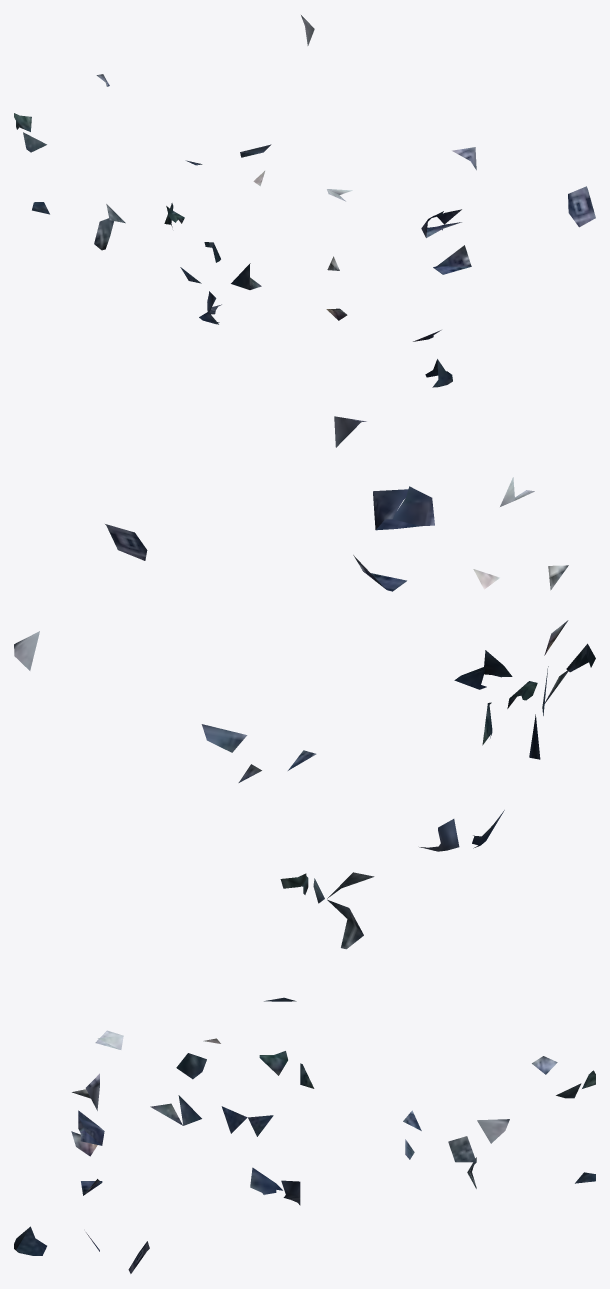
The picture shows the model from 3 angles, top to bottom: view 1: azimuth 30°, elevation 25°; view 2: azimuth 150°, elevation 25°; view 3: azimuth 270°, elevation 25°; orthographic projection. The views are drawn at different scales.
Visible parts, largest first — view 1: 30436272704361405604_1; view 2: 30436272704361405604_1; view 3: 30436272704361405604_1.
Boxes of the visible parts, bbox=[...] form: 30436272704361405604_1: bbox=[14, 15, 595, 387]; 30436272704361405604_1: bbox=[14, 416, 595, 1001]; 30436272704361405604_1: bbox=[14, 1030, 595, 1273].
Size of the model in its own units: 27.47 by 14.18 by 37.64.
1 material, 1 textured.
